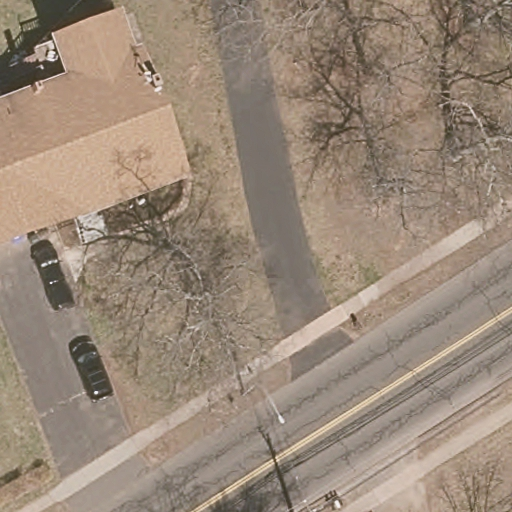DT: (289, 473, 314, 508)
